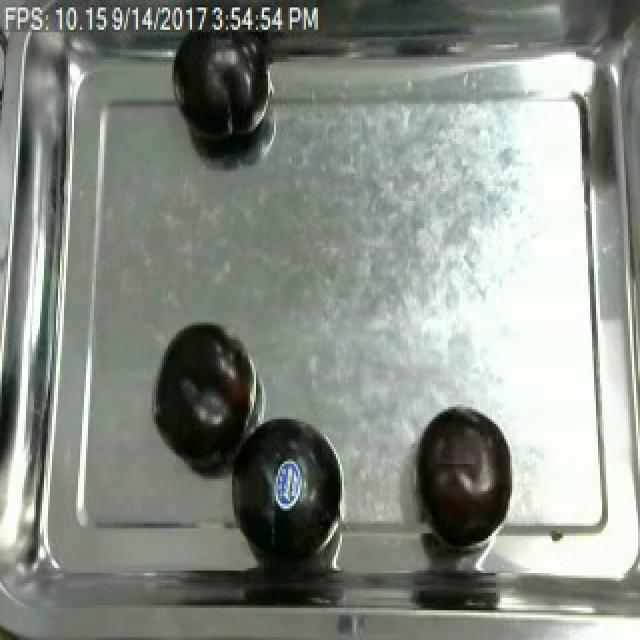Fruit: (222, 404, 350, 563), (144, 315, 262, 464), (414, 404, 516, 548), (166, 32, 272, 156)
